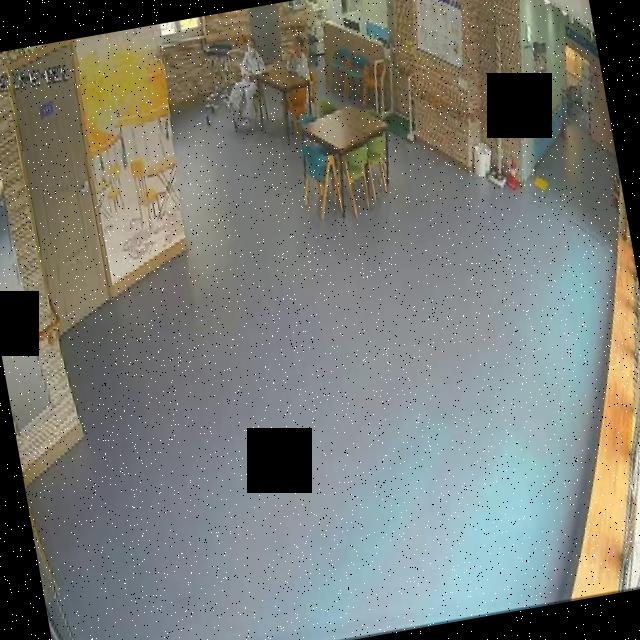patient: (214, 36, 278, 136), (279, 26, 318, 84)
sit: (215, 38, 278, 134)
